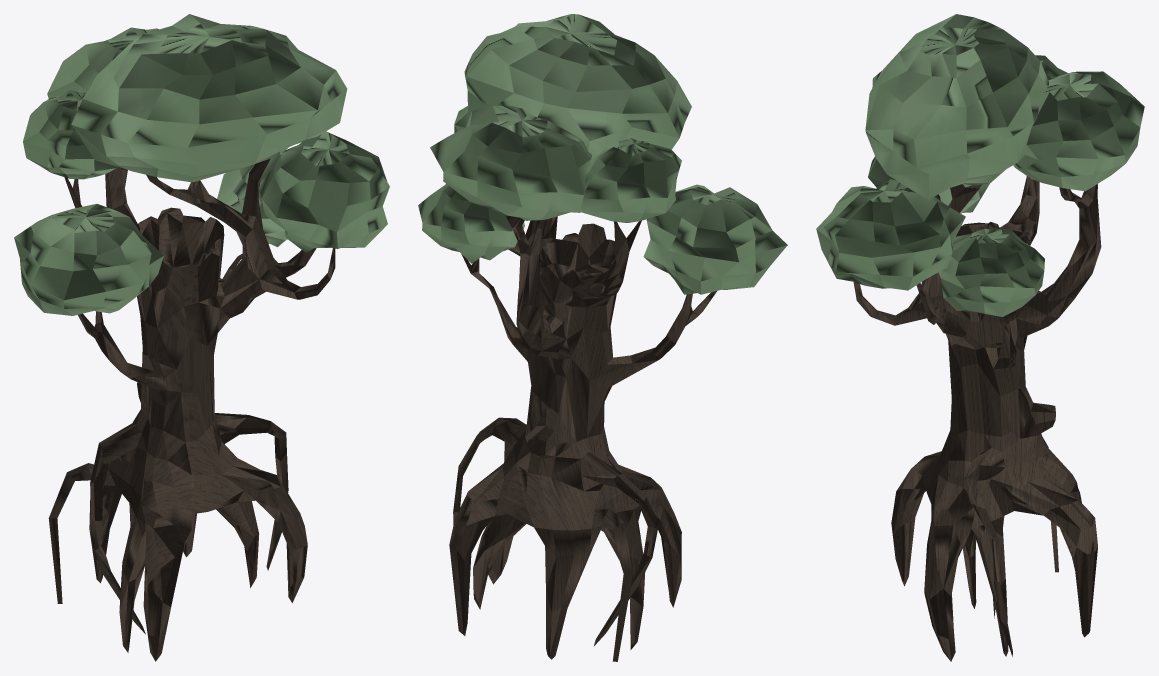
Rendered from wood_ob01.FBX.
3 renders of one model, left to right at view 1: azimuth 30°, elevation 25°; view 2: azimuth 150°, elevation 25°; view 3: azimuth 270°, elevation 25°, orthographic. The views are drawn at different scales.
Visible parts, largest first — view 1: Cube.002; view 2: Cube.002; view 3: Cube.002.
Part boxes in pixels (<box>): Cube.002: <box>14,14,389,661</box>; Cube.002: <box>418,14,787,661</box>; Cube.002: <box>816,14,1144,661</box>.
Size of the model in its own units: 269 by 461 by 227.
1 material, 1 textured.
